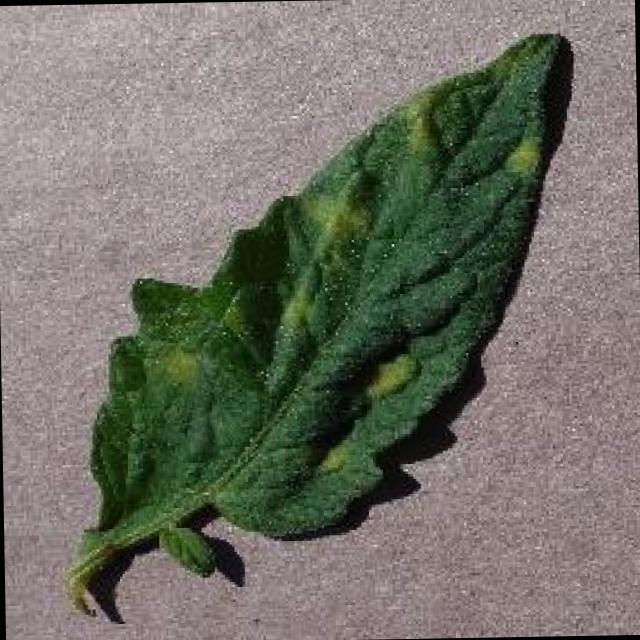Tomato mold leaf: (80, 31, 576, 541)
